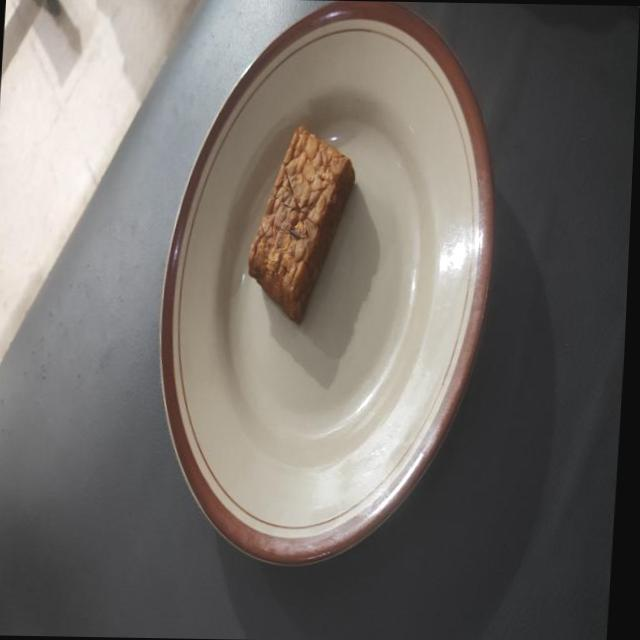tempe_goreng: (248, 126, 354, 323)
